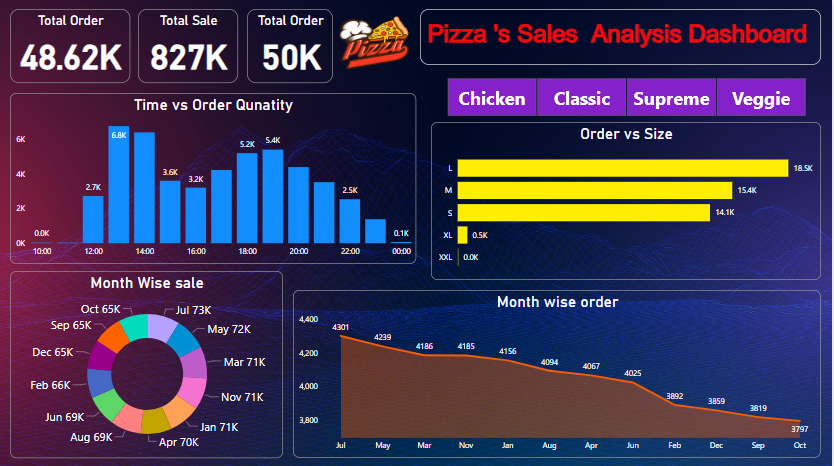

What the dashboard file says about the page in this screenshot:
{"tool":"powerbi","page":{"name":"Page 1","canvas":[1280,720],"ordinal":0},"visuals":[{"type":"card","title":"Total Order","fields":{"Values":["CountNonNull(pizza_sales.order_id)"]},"box":[15.4,15.4,184.6,113.8],"z":0},{"type":"card","title":"Total Quantity","fields":{"Values":["pizza_sales.Total Quantity"]},"box":[380,15.4,132.3,113.8],"z":1000},{"type":"card","title":"Total Sale","fields":{"Values":["pizza_sales.Total Sale"]},"box":[212.3,15.4,153.8,113.8],"z":2000},{"type":"clusteredBarChart","title":"Order vs Size","fields":{"Category":["pizza_sales.pizza_size"],"Y":["CountNonNull(pizza_sales.order_id)"]},"box":[663.1,189.2,600,243.1],"z":3000},{"type":"donutChart","title":"Month Wise sale ","fields":{"Category":["pizza_sales.month"],"Y":["Sum(pizza_sales.total_price)"]},"box":[15.4,418.5,420,287.7],"z":4000},{"type":"columnChart","title":"Time vs Order Qunatity","fields":{"Category":["pizza_sales.time"],"Y":["Sum(pizza_sales.quantity)"]},"box":[15.4,144.6,624.6,263.1],"z":5000},{"type":"areaChart","title":"Month wise order","fields":{"Category":["pizza_sales.month"],"Y":["CountNonNull(pizza_sales.order_id)"]},"box":[450.8,447.7,812.3,258.5],"z":6000},{"type":"slicer","fields":{"Values":["pizza_sales.pizza_category"]},"box":[663.1,115.4,600,70.8],"z":7000},{"type":"textbox","box":[646.2,15.4,616.9,86.2],"z":8000},{"type":"image","box":[506.2,0,138.5,129.2],"z":9000}]}

Visuals, with their boxes in screenshot pixels (x1, y1, x2, y2), scaled from the page's 1280x720 canvas onto the 834x466 screenshot:
"Total Order" card: <box>10,10,130,84</box>
"Total Quantity" card: <box>248,10,334,84</box>
"Total Sale" card: <box>138,10,239,84</box>
"Order vs Size" clusteredBarChart: <box>432,122,823,280</box>
"Month Wise sale " donutChart: <box>10,271,284,457</box>
"Time vs Order Qunatity" columnChart: <box>10,94,417,264</box>
"Month wise order" areaChart: <box>294,290,823,457</box>
slicer - pizza_sales.pizza_category: <box>432,75,823,121</box>
textbox: <box>421,10,823,66</box>
image: <box>330,0,420,84</box>
